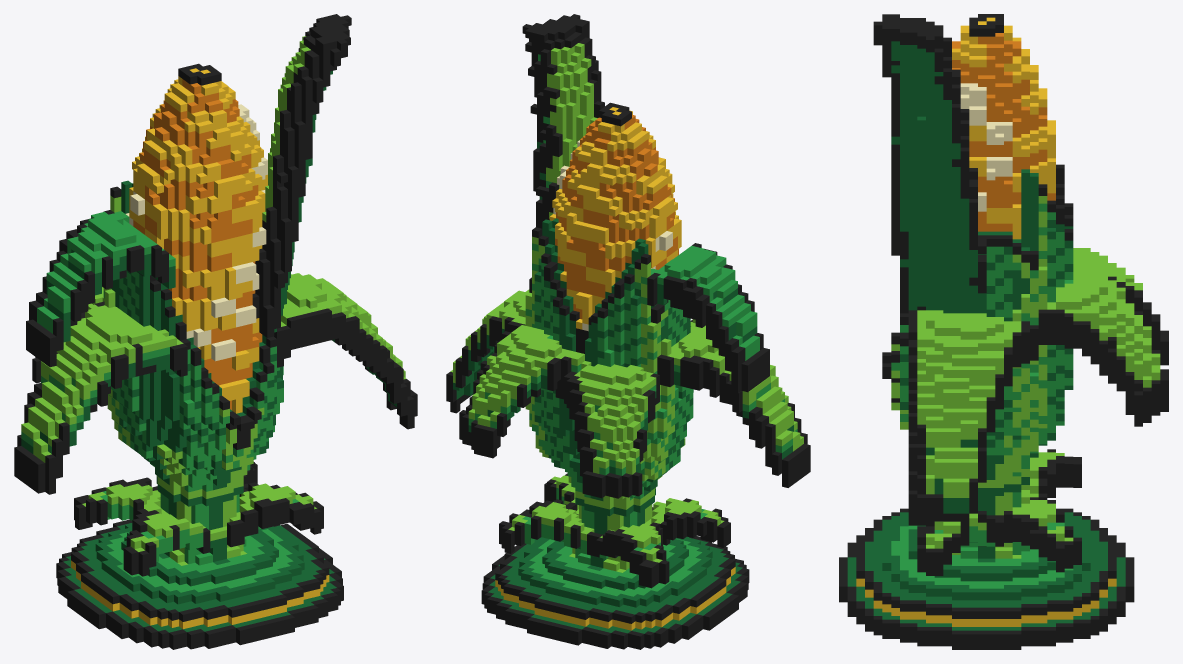
Rendered from milho_pixelart_vertical_em_pe.obj.
3 renders of one model, left to right at view 1: azimuth 30°, elevation 25°; view 2: azimuth 150°, elevation 25°; view 3: azimuth 270°, elevation 25°, orthographic. The views are drawn at different scales.
Size of the model in its own units: 108 by 156 by 76.
